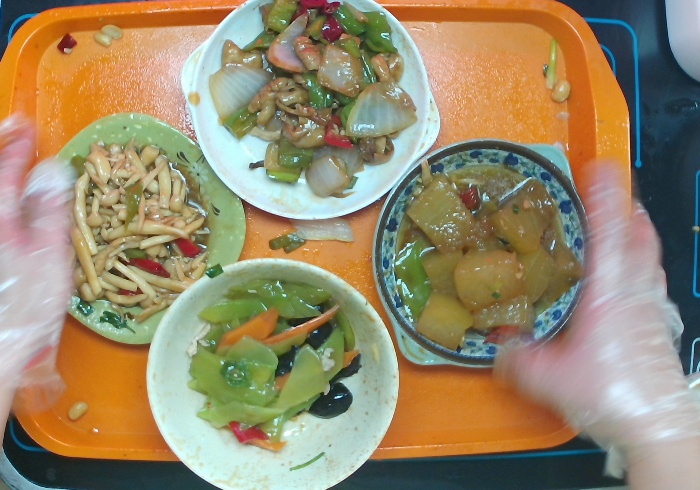NLDX-Bai_Se_Shuang_Er_Die: (173, 1, 448, 222)
NLDX-Bai_Se_Yuan_Wan: (139, 247, 405, 490)
NLDX-Lv_Hua_Fang_Die: (26, 109, 253, 352)
NLDX-Qing_Hua_Shuang_Er_Die: (370, 129, 596, 375)
